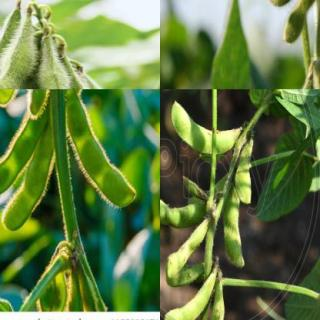soya: (64, 89, 137, 211), (1, 129, 53, 232), (0, 115, 49, 197), (171, 100, 236, 154), (164, 268, 215, 320), (0, 20, 38, 89), (167, 219, 208, 276), (0, 10, 23, 86), (223, 194, 246, 268), (38, 40, 72, 89), (282, 0, 319, 45), (160, 195, 206, 228), (235, 140, 253, 205), (166, 262, 203, 286), (29, 89, 53, 115), (212, 282, 224, 320), (290, 80, 314, 88)
